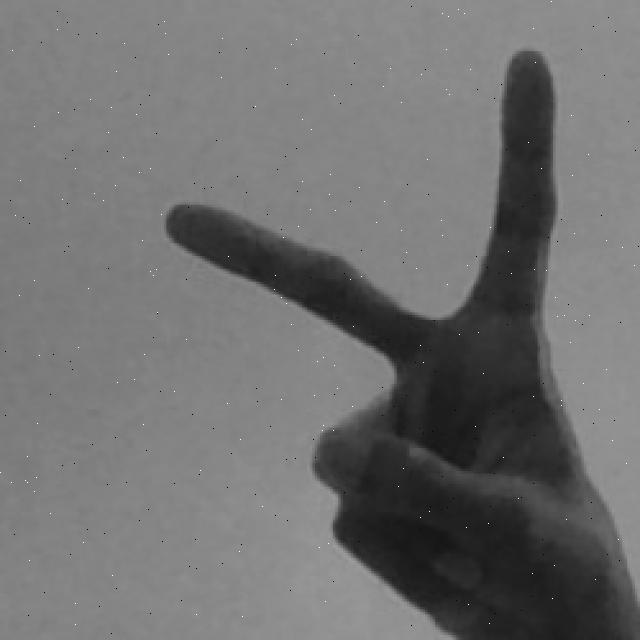V: (169, 43, 640, 640)
